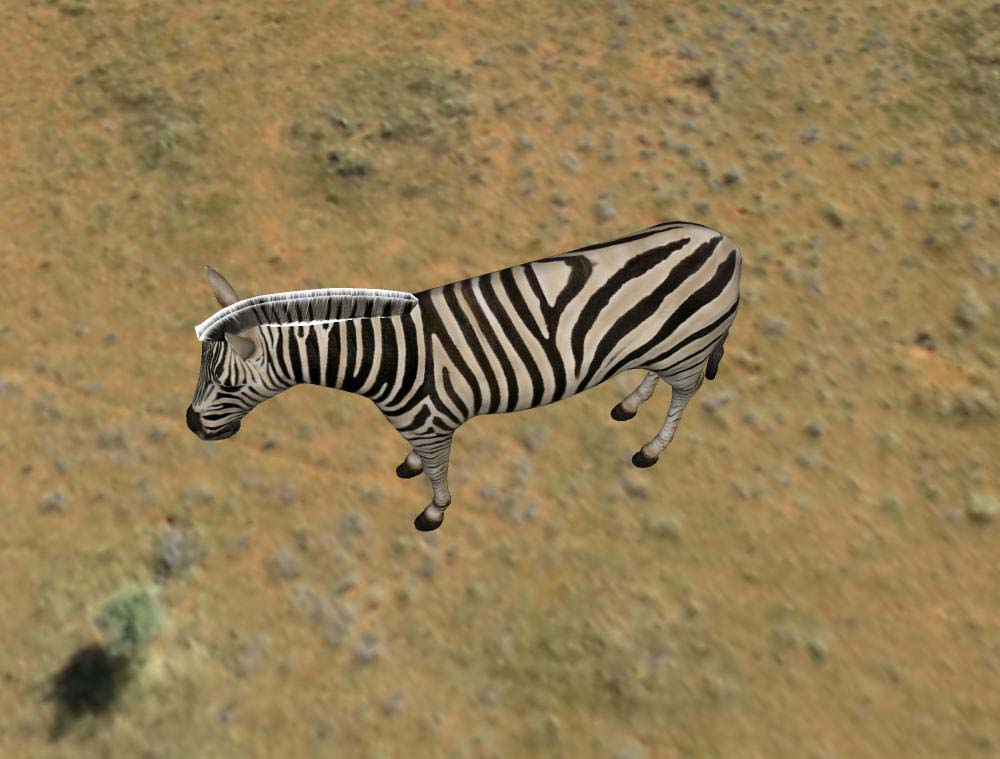zebra: (186, 219, 748, 532)
